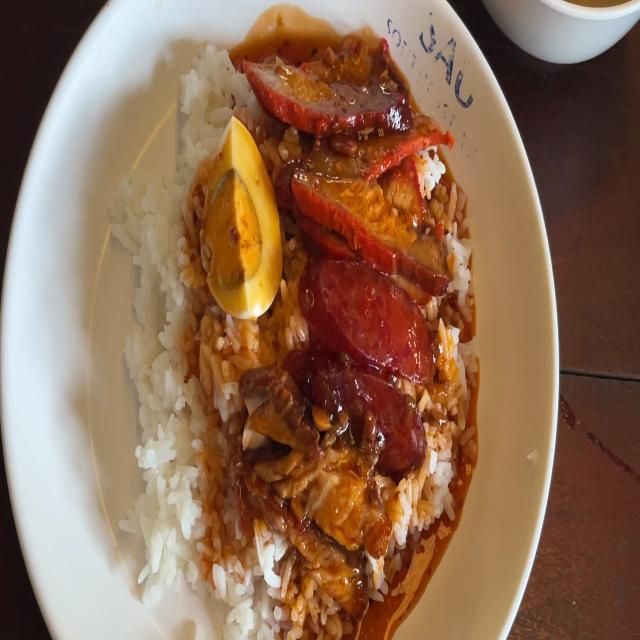01boiled_egg: (214, 138, 273, 307)
01chainese_sausage: (310, 271, 410, 441)
01crispy_pork: (282, 454, 387, 597), (256, 372, 307, 456)
01red_pork: (254, 64, 429, 174), (324, 170, 440, 272)
01red_pork_and_crispy_pork: (124, 53, 459, 639)
01rice: (142, 164, 188, 576), (200, 320, 245, 613)
